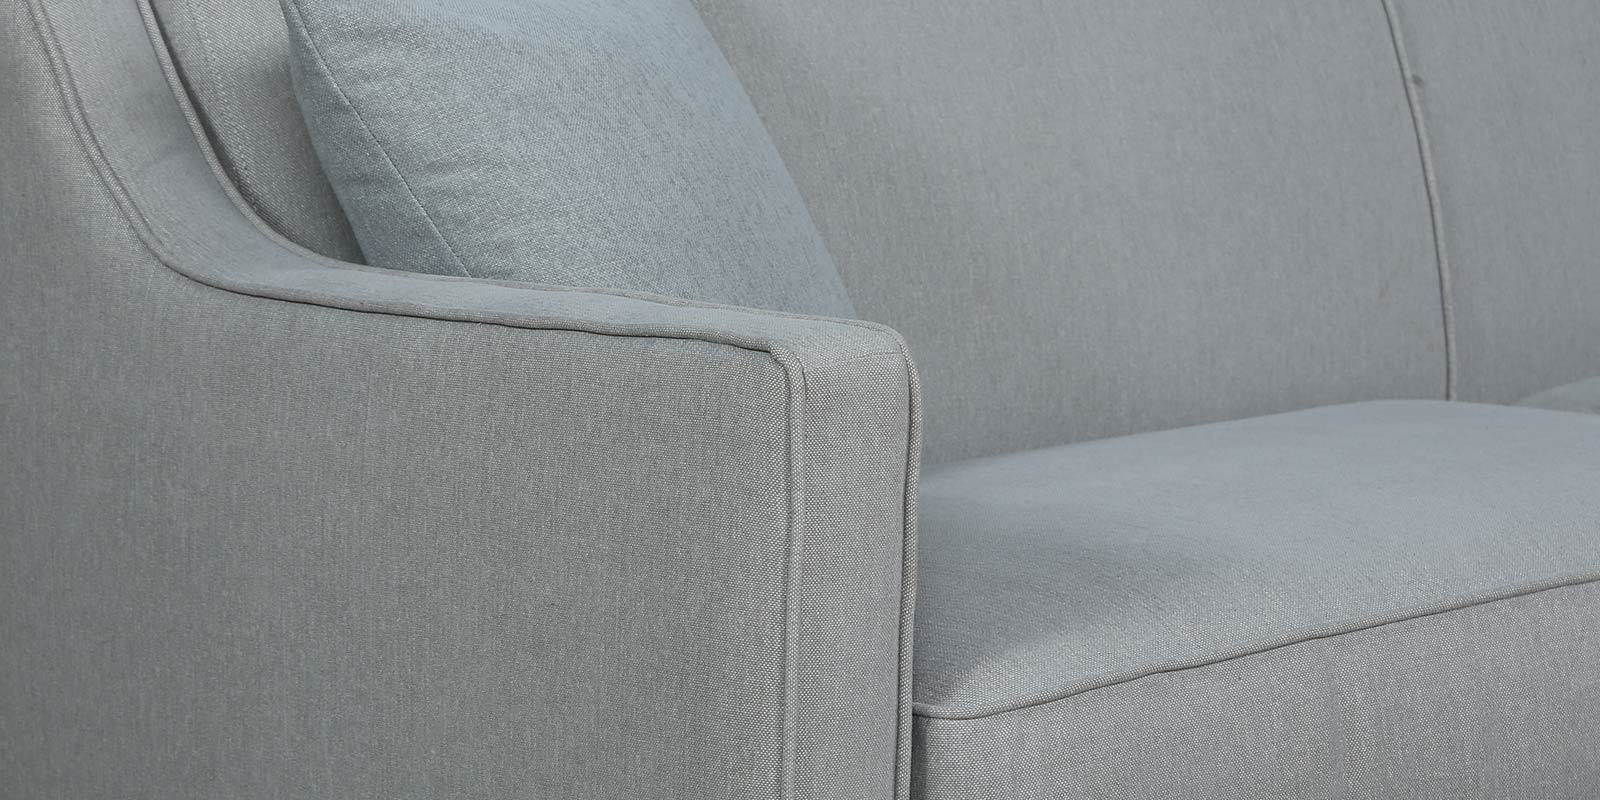Oscar Three Seater Sofa in Ash Grey Colour by CasaCraft: (3, 3, 1597, 800)
